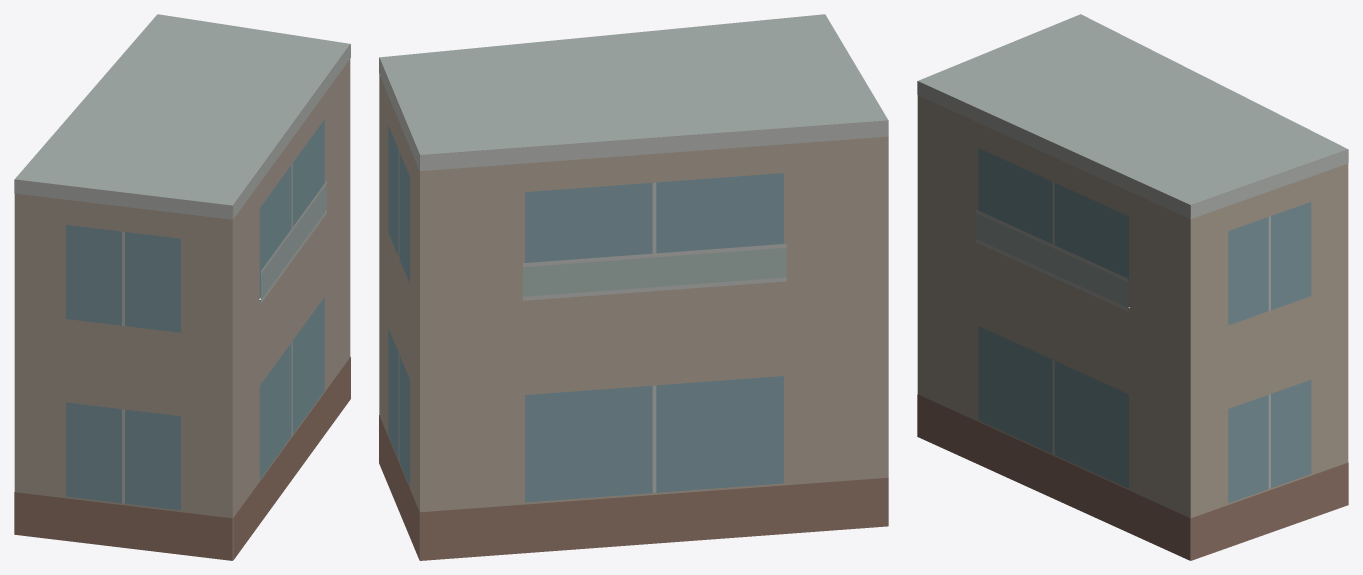
The model's file is survey-upis-32763379.glb.
3 views of the same model, side by side, from view 1: azimuth 30°, elevation 25°; view 2: azimuth 150°, elevation 25°; view 3: azimuth 270°, elevation 25° (orthographic). The views are drawn at different scales.
Parts seen in each view (by area): view 1: survey-upis-32763379.tmp; view 2: survey-upis-32763379.tmp; view 3: survey-upis-32763379.tmp.
Part boxes in pixels (box(x1,y1,x2,y2)): survey-upis-32763379.tmp: box(14, 14, 350, 560); survey-upis-32763379.tmp: box(379, 14, 888, 560); survey-upis-32763379.tmp: box(917, 14, 1348, 560).
Bounding box in the file's own units: 7.03 × 6.1 × 6.7.
